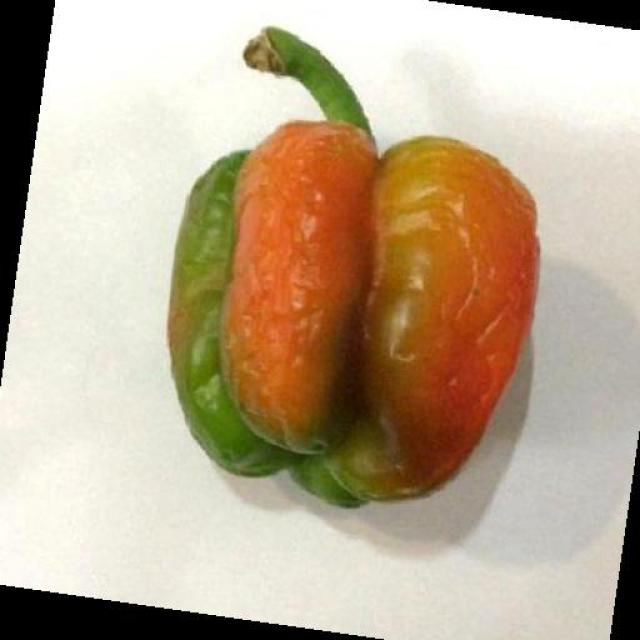Stale_Capsicum: (152, 47, 532, 513)
